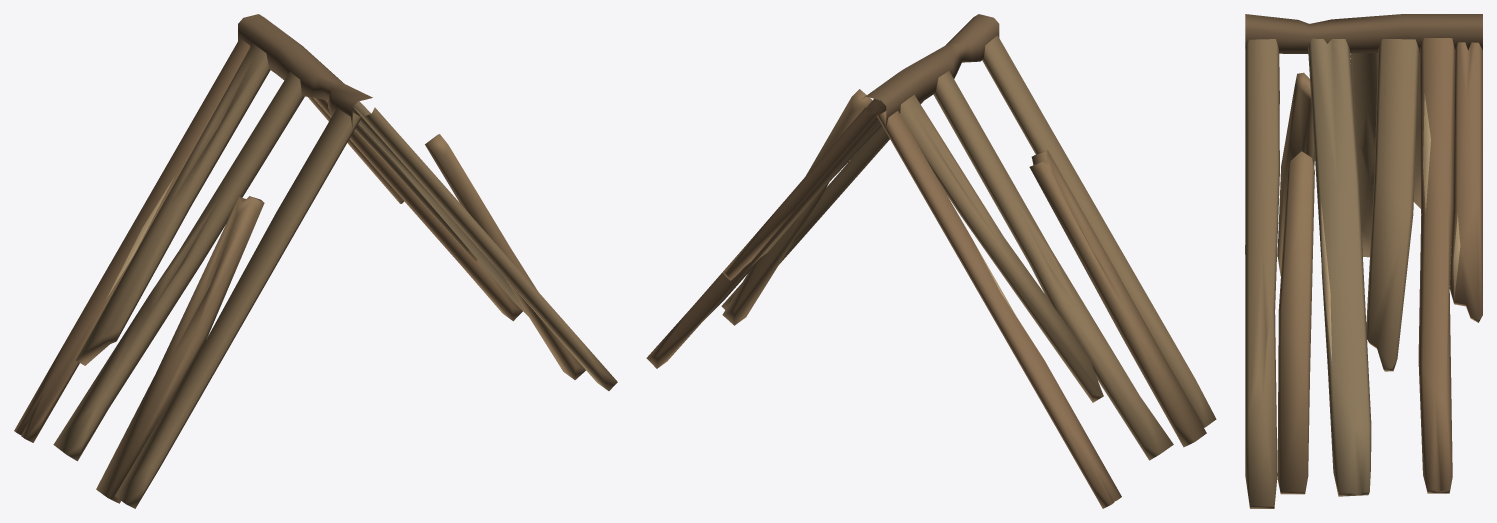
The model's file is rpgpp_av_roof_02_6x5x3_b.gltf.
3 views of the same model, side by side, from view 1: azimuth 30°, elevation 25°; view 2: azimuth 150°, elevation 25°; view 3: azimuth 270°, elevation 25° (orthographic). The views are drawn at different scales.
Parts seen in each view (by area): view 1: rpgpp_av_roof_02_6x5x3_b; view 2: rpgpp_av_roof_02_6x5x3_b; view 3: rpgpp_av_roof_02_6x5x3_b.
Part boxes in pixels (x1,y1,x2,y2): rpgpp_av_roof_02_6x5x3_b: (14,14,617,508); rpgpp_av_roof_02_6x5x3_b: (646,14,1216,508); rpgpp_av_roof_02_6x5x3_b: (1245,14,1482,508).
Size of the model in its own units: 0.0755 by 0.0522 by 0.03.
1 material, 1 textured.
